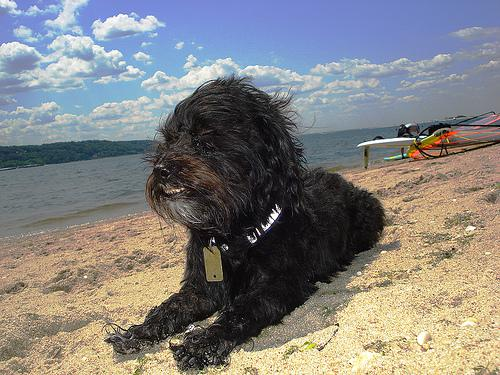dog-havanese: (147, 82, 288, 213)
